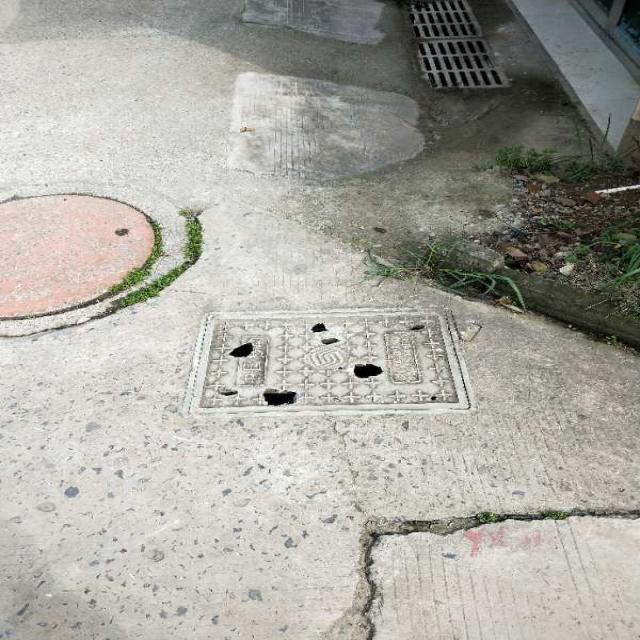Broken: (184, 307, 474, 416)
Good: (0, 196, 179, 320)
